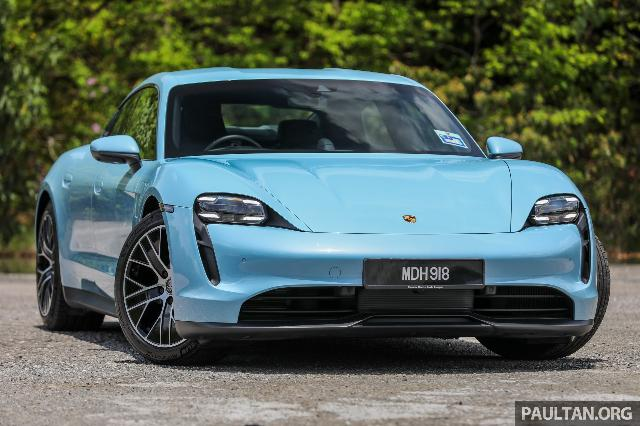porsche: (35, 68, 610, 364)
